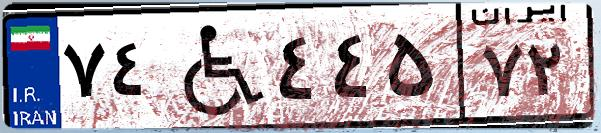2: (525, 38, 570, 115)
4: (270, 28, 330, 110), (330, 28, 385, 110), (110, 28, 158, 98)
5: (385, 28, 445, 110)
7: (57, 26, 110, 100), (475, 38, 525, 113)
ژ (معلولین و جانبازان): (158, 12, 270, 120)
